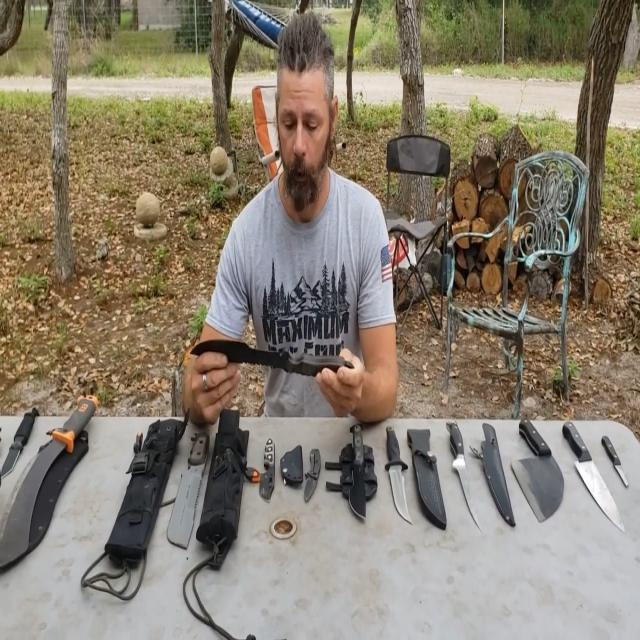knife: (0, 385, 115, 573), (188, 330, 366, 389), (556, 413, 630, 532), (502, 410, 566, 529), (160, 426, 215, 564), (438, 411, 489, 526), (379, 412, 419, 536), (0, 411, 49, 493), (345, 416, 378, 522), (257, 426, 280, 514), (600, 431, 632, 485), (297, 435, 323, 501)
